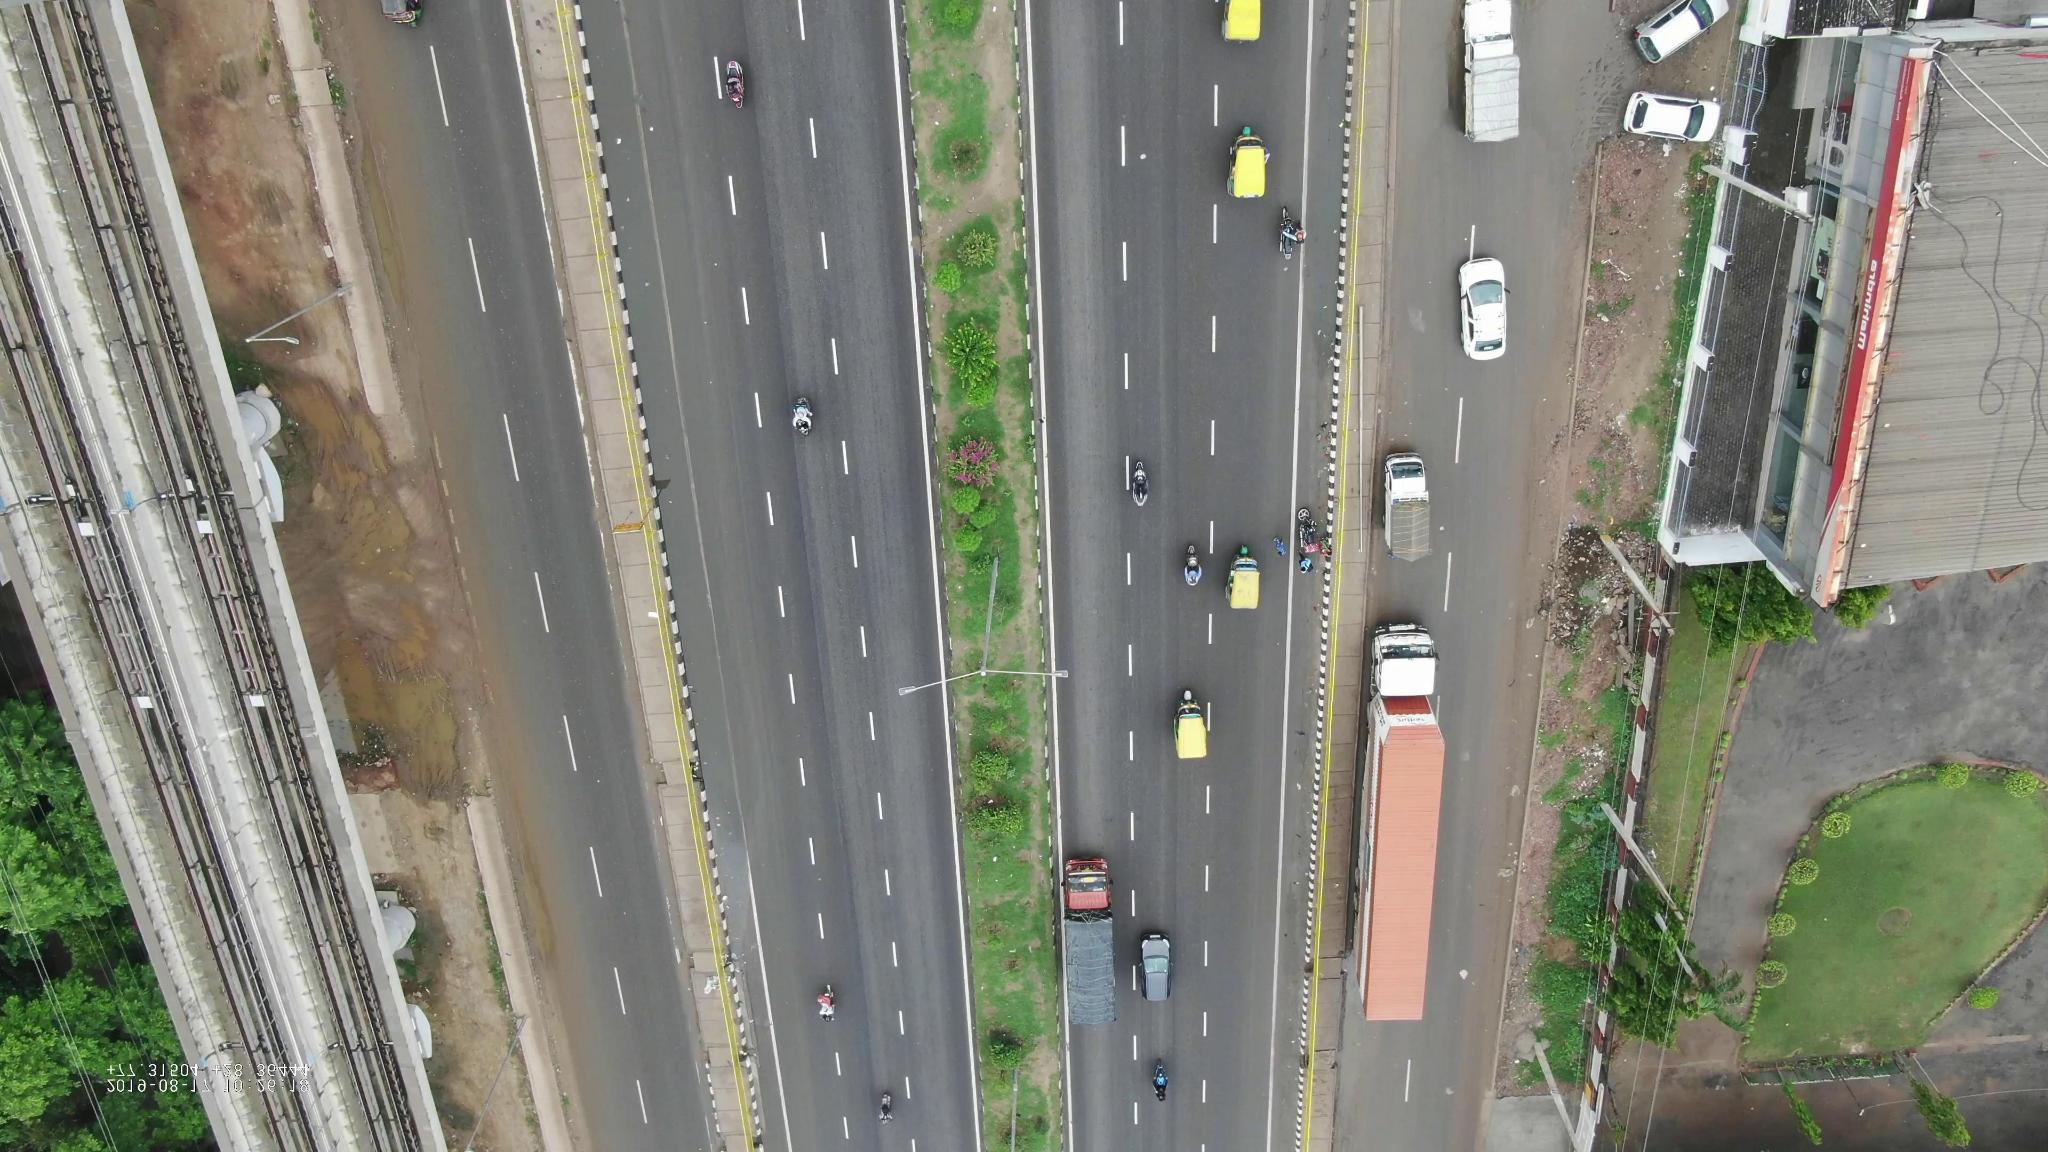Waterlogging: (343, 122, 409, 307), (504, 840, 564, 971), (703, 813, 755, 942)
